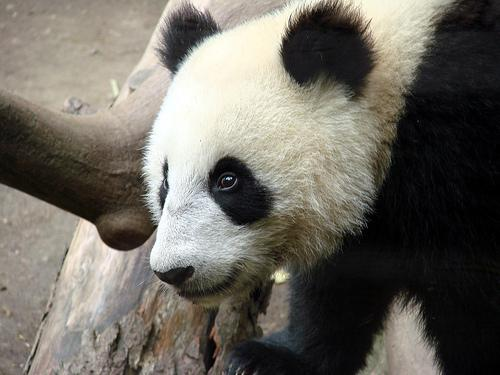panda: (141, 0, 499, 374)
